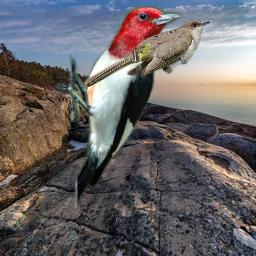Cuckoo: (83, 19, 210, 87)
Woodpecker: (55, 6, 185, 212)
